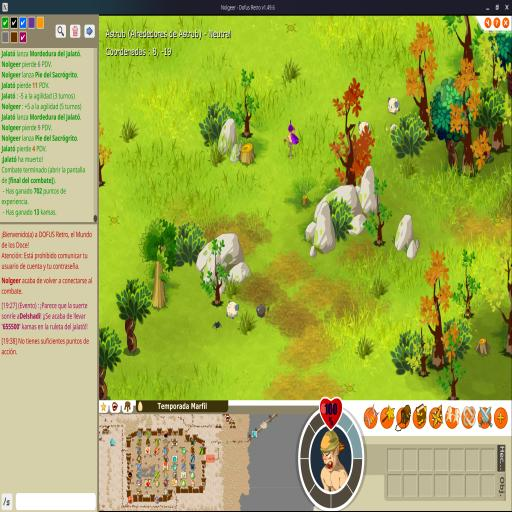Enemigos: (226, 300, 240, 320), (387, 96, 400, 116), (358, 120, 371, 138), (256, 302, 270, 318), (385, 122, 398, 137), (212, 320, 222, 332)
Personaje: (284, 119, 300, 159)
